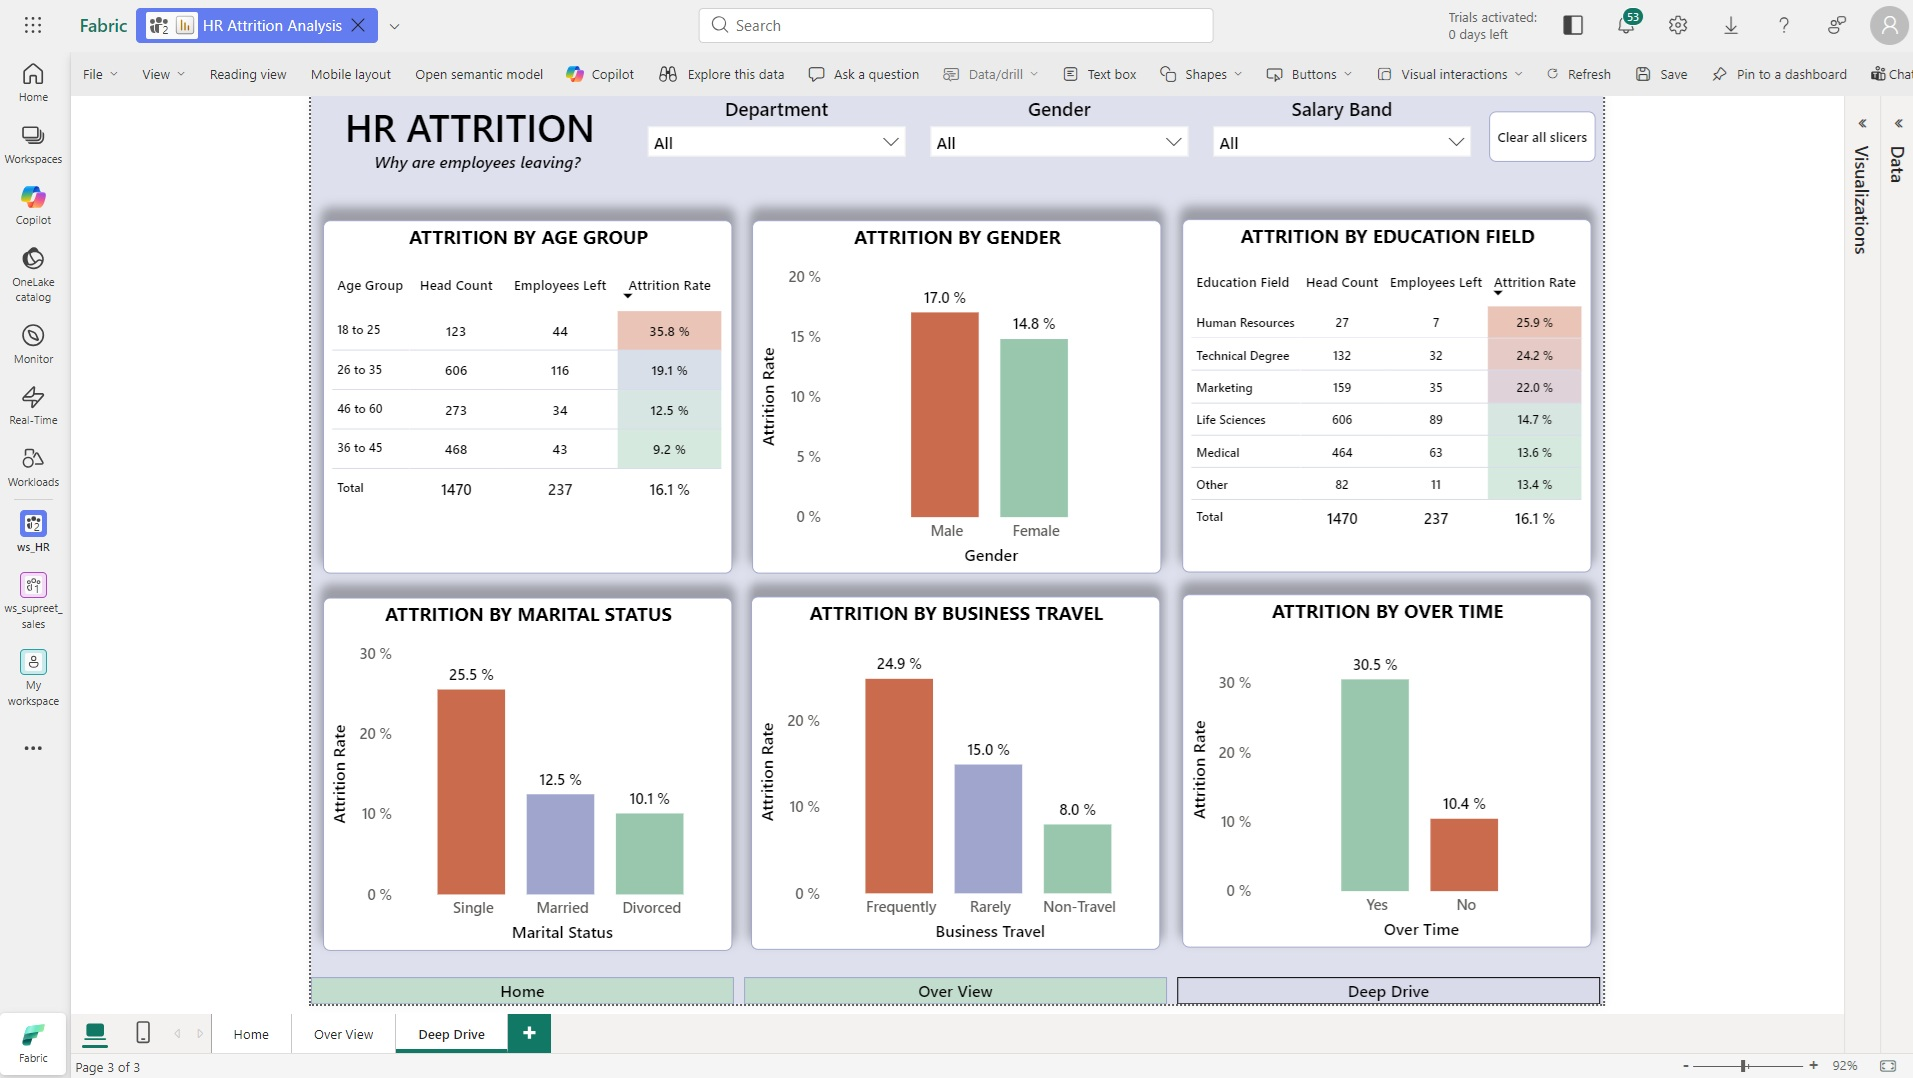

The dashboard page shown, as its layout file describes it:
{"tool":"powerbi","page":{"name":"Deep Drive","canvas":[1280,900],"ordinal":2},"visuals":[{"type":"textbox","box":[28.3,0,273.2,90.7],"z":0},{"type":"slicer","title":"Department","fields":{"Values":["HR_Employees.Department"]},"box":[324.2,0,275,65],"z":1000},{"type":"slicer","title":"Gender","fields":{"Values":["HR_Employees.Gender"]},"box":[604.2,0,275,65],"z":2000},{"type":"slicer","title":"Salary Band","fields":{"Values":["HR_Employees.Salary Band"]},"box":[884.1,0,275,65.7],"z":3000},{"type":"actionButton","box":[1167.5,14.7,105.4,49.9],"z":4000},{"type":"pageNavigator","box":[0,872.8,1278.6,27.2],"z":5000},{"type":"pivotTable","title":"ATTRITION BY AGE GROUP","fields":{"Rows":["HR_Employees.Age Group"],"Values":["HR_Employees.Headcount","HR_Employees.Employees Left","HR_Employees.Attrition Rate"]},"box":[12.5,123.6,405,350],"z":5001},{"type":"clusteredColumnChart","title":"ATTRITION BY GENDER","fields":{"Category":["HR_Employees.Gender"],"Y":["HR_Employees.Attrition Rate"]},"box":[437.5,123.6,405,350],"z":5002},{"type":"pivotTable","title":"ATTRITION BY EDUCATION FIELD ","fields":{"Rows":["HR_Employees.EducationField"],"Values":["HR_Employees.Headcount","HR_Employees.Employees Left","HR_Employees.Attrition Rate"]},"box":[862.6,122.4,405,350],"z":5003},{"type":"clusteredColumnChart","title":"ATTRITION BY MARITAL STATUS","fields":{"Category":["HR_Employees.MaritalStatus"],"Y":["HR_Employees.Attrition Rate"]},"box":[12.5,496.5,405,350],"z":5004},{"type":"clusteredColumnChart","title":"ATTRITION BY BUSINESS TRAVEL","fields":{"Category":["HR_Employees.BusinessTravel"],"Y":["HR_Employees.Attrition Rate"]},"box":[436.4,495.3,405,350],"z":5005},{"type":"clusteredColumnChart","title":"ATTRITION BY OVER TIME","fields":{"Category":["HR_Employees.OverTime"],"Y":["HR_Employees.Attrition Rate"]},"box":[862.6,494.2,405,350],"z":5006}]}

Visuals, with their boxes on the page's 1280x900 design canvas (x1, y1, x2, y2). These are canvas units, not pixel positions in the 1913x1078 screenshot, which may show the page scaled, cropped or inside an application window:
textbox: {"left": 28, "top": 0, "right": 302, "bottom": 91}
"Department" slicer: {"left": 324, "top": 0, "right": 599, "bottom": 65}
"Gender" slicer: {"left": 604, "top": 0, "right": 879, "bottom": 65}
"Salary Band" slicer: {"left": 884, "top": 0, "right": 1159, "bottom": 66}
actionButton: {"left": 1168, "top": 15, "right": 1273, "bottom": 65}
pageNavigator: {"left": 0, "top": 873, "right": 1279, "bottom": 900}
"ATTRITION BY AGE GROUP" pivotTable: {"left": 12, "top": 124, "right": 418, "bottom": 474}
"ATTRITION BY GENDER" clusteredColumnChart: {"left": 438, "top": 124, "right": 842, "bottom": 474}
"ATTRITION BY EDUCATION FIELD " pivotTable: {"left": 863, "top": 122, "right": 1268, "bottom": 472}
"ATTRITION BY MARITAL STATUS" clusteredColumnChart: {"left": 12, "top": 496, "right": 418, "bottom": 846}
"ATTRITION BY BUSINESS TRAVEL" clusteredColumnChart: {"left": 436, "top": 495, "right": 841, "bottom": 845}
"ATTRITION BY OVER TIME" clusteredColumnChart: {"left": 863, "top": 494, "right": 1268, "bottom": 844}
